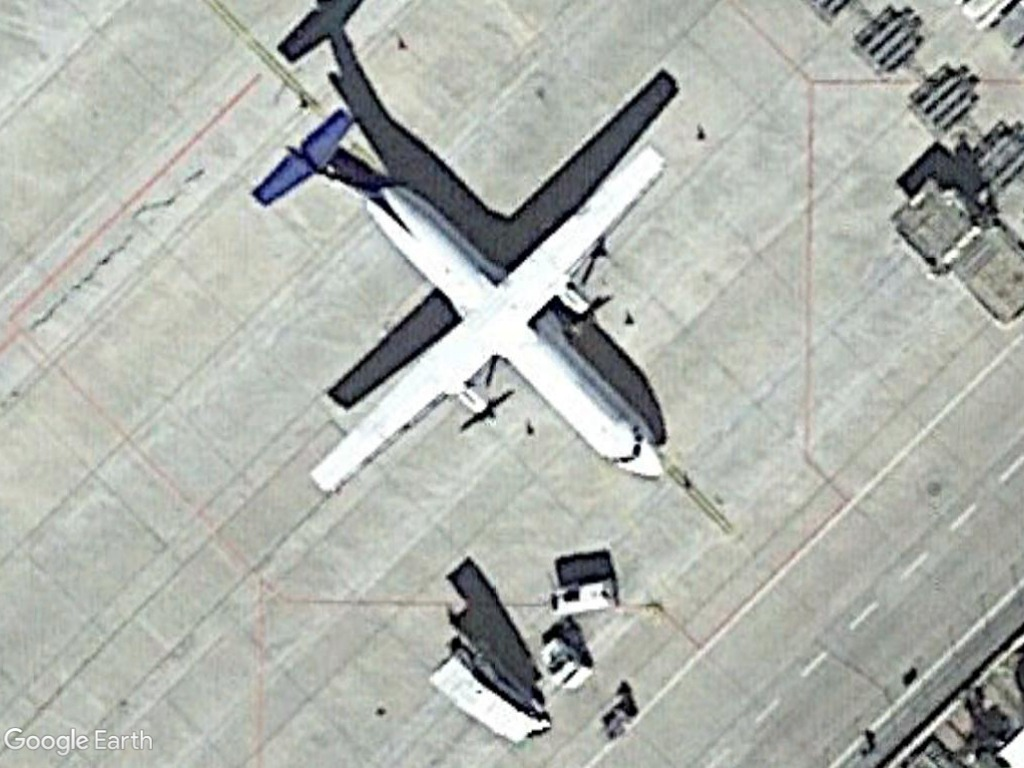propeller: (251, 101, 671, 493)
